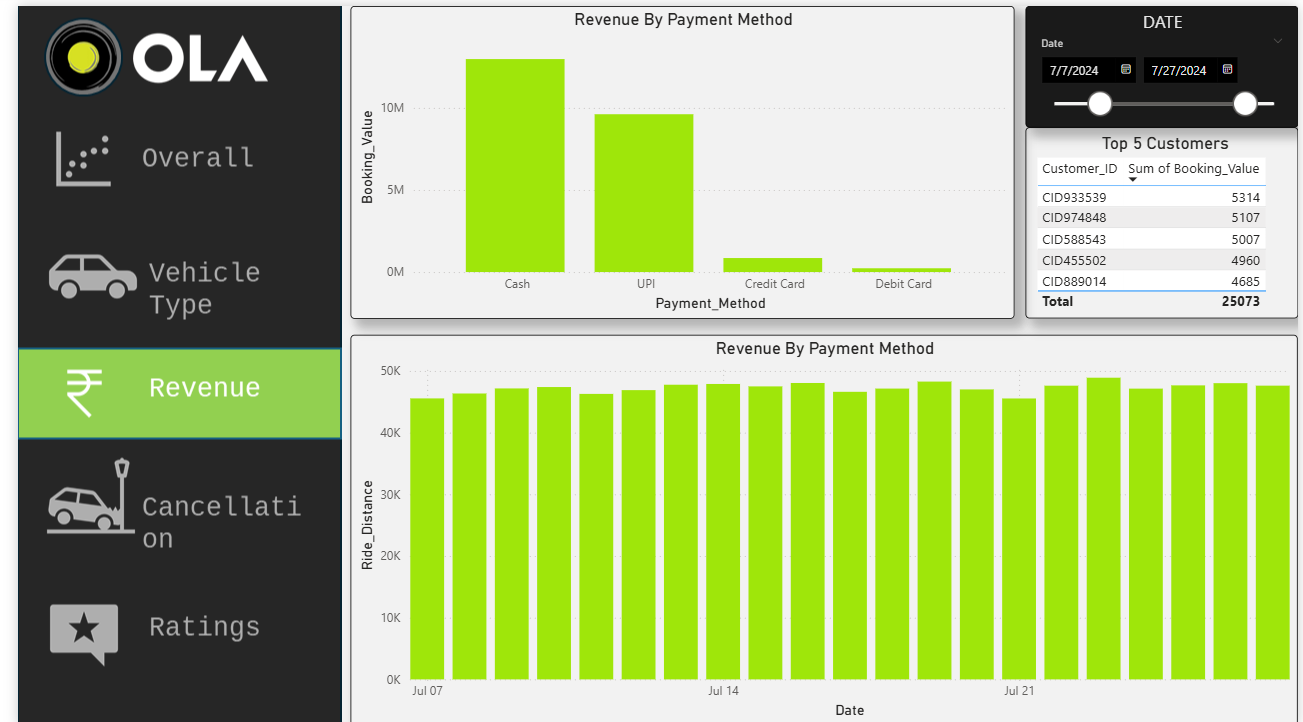

The page's visual inventory and layout, read from the dashboard file:
{"tool":"powerbi","page":{"name":"Revenue","canvas":[1280,720],"ordinal":2},"visuals":[{"type":"actionButton","box":[0,576.2,322.5,93.8],"z":0},{"type":"actionButton","box":[0,447.5,322.5,115],"z":1000},{"type":"actionButton","box":[0,233.8,322.5,93.8],"z":2000},{"type":"actionButton","box":[0,105,322.5,92.5],"z":3000},{"type":"columnChart","title":"Revenue By Payment  Method","fields":{"Y":["Sum(July.Booking_Value)"],"Category":["July.Payment_Method"]},"box":[332.9,0,664.3,312.9],"z":4000},{"type":"columnChart","title":"Revenue By Payment  Method","fields":{"Y":["Sum(July.Ride_Distance)"],"Category":["July.Date"]},"box":[332.9,328.6,947.1,391.4],"z":5000},{"type":"slicer","title":"DATE","fields":{"Values":["July.Date"]},"box":[1007.1,0,272.9,121.4],"z":6000},{"type":"tableEx","title":"Top 5  Customers","fields":{"Values":["July.Customer_ID","Sum(July.Booking_Value)"]},"box":[1007.1,121.4,272.9,191.4],"z":7000}]}

Visuals, with their boxes in screenshot pixels (x1, y1, x2, y2), scaled from the page's 1280x720 canvas onto the 1303x722 screenshot:
actionButton: bbox=(0, 578, 328, 672)
actionButton: bbox=(0, 449, 328, 564)
actionButton: bbox=(0, 234, 328, 329)
actionButton: bbox=(0, 105, 328, 198)
"Revenue By Payment  Method" columnChart: bbox=(339, 0, 1015, 314)
"Revenue By Payment  Method" columnChart: bbox=(339, 330, 1302, 721)
"DATE" slicer: bbox=(1025, 0, 1302, 122)
"Top 5  Customers" tableEx: bbox=(1025, 122, 1302, 314)
